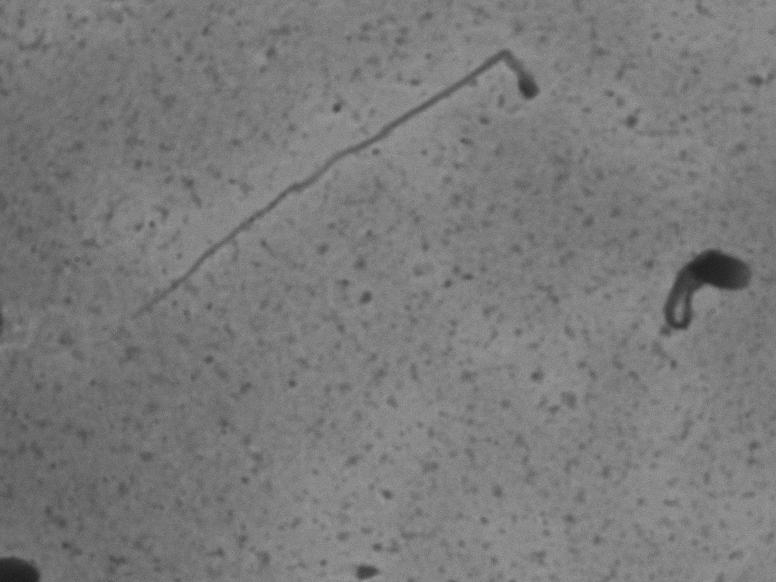Abnormal: (86, 39, 575, 321), (648, 232, 757, 352)
